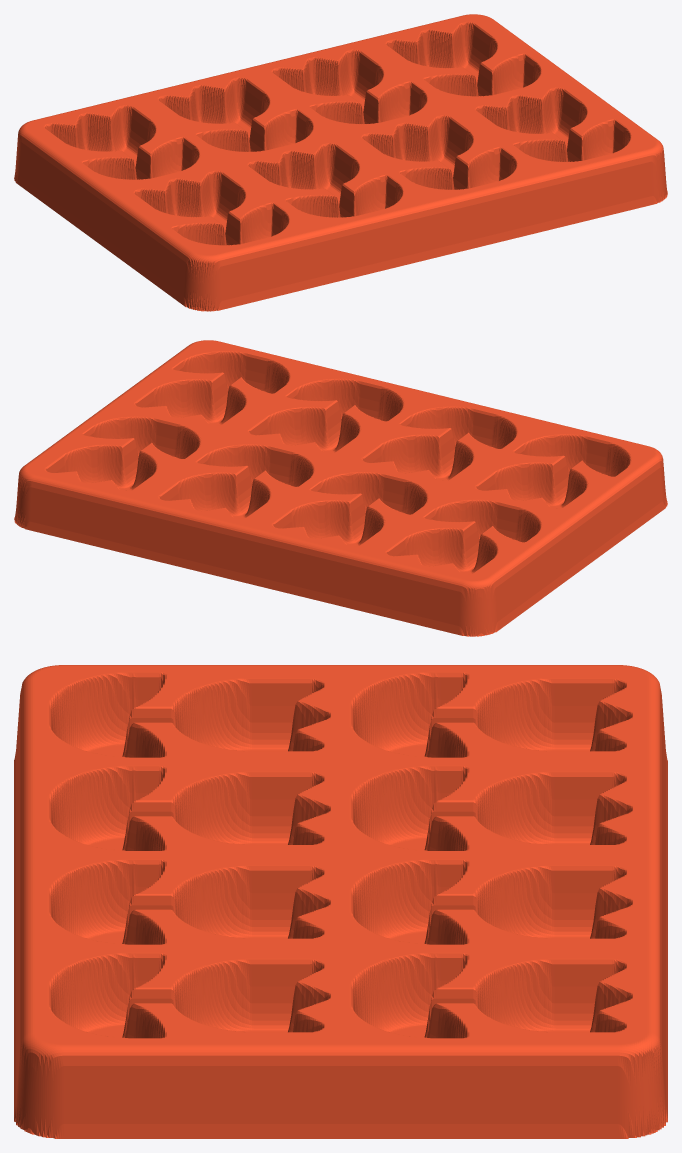
The model's file is mold.glb.
3 views of the same model, one above another, from view 1: azimuth 30°, elevation 25°; view 2: azimuth 150°, elevation 25°; view 3: azimuth 270°, elevation 25° (orthographic). The views are drawn at different scales.
Visible parts, largest first — view 1: geometry_0; view 2: geometry_0; view 3: geometry_0.
Part boxes in pixels (left/top/right/bottom): geometry_0: left=14, top=14, right=667, bottom=311; geometry_0: left=14, top=340, right=667, bottom=636; geometry_0: left=14, top=665, right=667, bottom=1138.
Bounding box in the file's own units: 0.1729 × 0.0175 × 0.1209.
